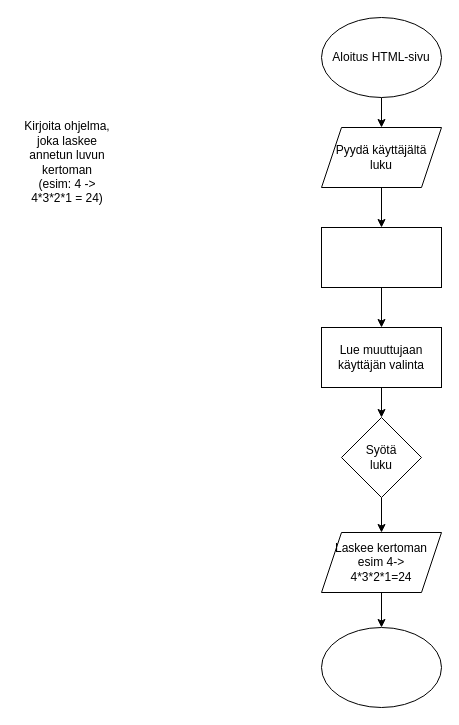
Some shapes in this 459 by 725 pixel diagram are drawn without their labels. Here are the shapes that lost their labels. From the top down, the centre of each, then its label:
At point (381, 257): "Luo muuttuja".
At point (381, 667): "The End".
